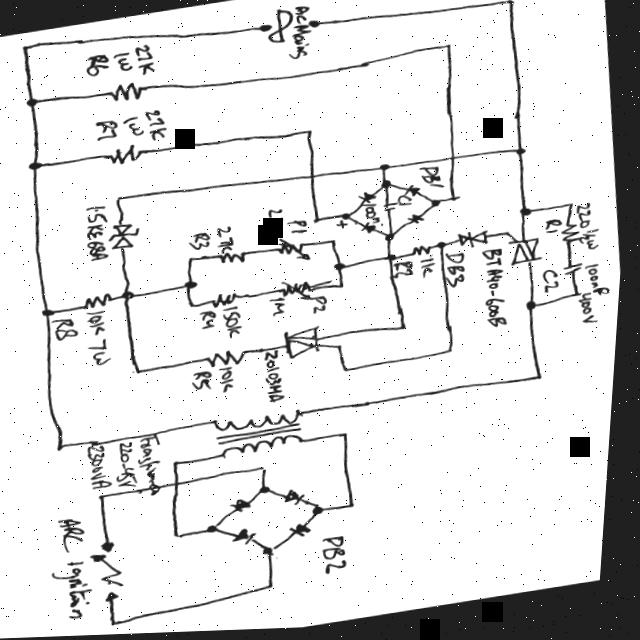capacitor: (563, 266, 588, 281), (384, 204, 400, 216)
crossover: (298, 169, 323, 189), (439, 151, 465, 170), (172, 476, 193, 495)
diode: (108, 221, 146, 253), (460, 232, 492, 255), (238, 527, 265, 550), (287, 489, 312, 509), (234, 499, 260, 517), (294, 524, 318, 543), (402, 186, 425, 201), (359, 192, 381, 207), (362, 224, 382, 238), (408, 215, 428, 228)
junction: (186, 280, 202, 292), (502, 0, 517, 12), (515, 149, 530, 161), (450, 196, 465, 208), (439, 43, 454, 55), (300, 128, 315, 140), (430, 200, 445, 212), (384, 235, 399, 247), (312, 217, 327, 229), (328, 238, 343, 250), (335, 263, 350, 275), (338, 284, 353, 296), (399, 325, 414, 337), (334, 343, 349, 355), (189, 300, 204, 312), (114, 194, 129, 206), (44, 306, 59, 318), (25, 96, 40, 108), (19, 42, 34, 54), (528, 303, 543, 315), (445, 348, 460, 360), (261, 465, 276, 477), (101, 491, 116, 503), (113, 618, 128, 630), (271, 582, 286, 594), (268, 547, 283, 559), (213, 524, 228, 536), (176, 532, 191, 544), (263, 486, 278, 498), (520, 210, 535, 221), (378, 165, 393, 176), (380, 182, 395, 193), (341, 212, 356, 223), (388, 256, 403, 267), (187, 255, 202, 266), (124, 290, 139, 301), (136, 367, 151, 378), (30, 160, 45, 171), (535, 375, 550, 386), (343, 366, 358, 377), (341, 432, 356, 443), (173, 459, 188, 470), (59, 442, 74, 453), (316, 508, 331, 519), (350, 503, 365, 514), (436, 243, 451, 254), (573, 293, 587, 304), (565, 205, 579, 213)
resistor: (274, 236, 315, 269), (206, 347, 256, 371), (105, 142, 150, 168), (106, 81, 147, 105), (279, 279, 320, 303), (81, 292, 118, 312), (562, 225, 587, 249), (212, 292, 244, 310), (217, 252, 250, 267), (410, 245, 437, 261)
terminal: (104, 540, 124, 556), (110, 591, 127, 605), (256, 23, 272, 37), (306, 19, 324, 31)
text: (51, 514, 103, 624), (90, 436, 170, 494), (94, 109, 169, 150), (84, 44, 156, 84), (484, 251, 513, 333), (581, 266, 615, 332), (282, 5, 314, 63), (202, 306, 248, 345), (267, 206, 311, 245), (89, 309, 117, 368), (193, 367, 242, 399), (85, 205, 111, 264), (190, 225, 237, 256), (264, 351, 290, 406), (576, 206, 604, 256), (396, 258, 441, 285), (325, 538, 355, 578), (447, 253, 470, 292), (52, 316, 84, 343), (416, 166, 447, 193), (542, 272, 565, 299), (270, 299, 292, 320), (312, 296, 332, 319), (544, 221, 566, 239), (366, 206, 383, 226), (396, 197, 417, 209)
thyristor: (287, 327, 327, 363), (510, 237, 548, 271)
transformer: (214, 407, 315, 465)
